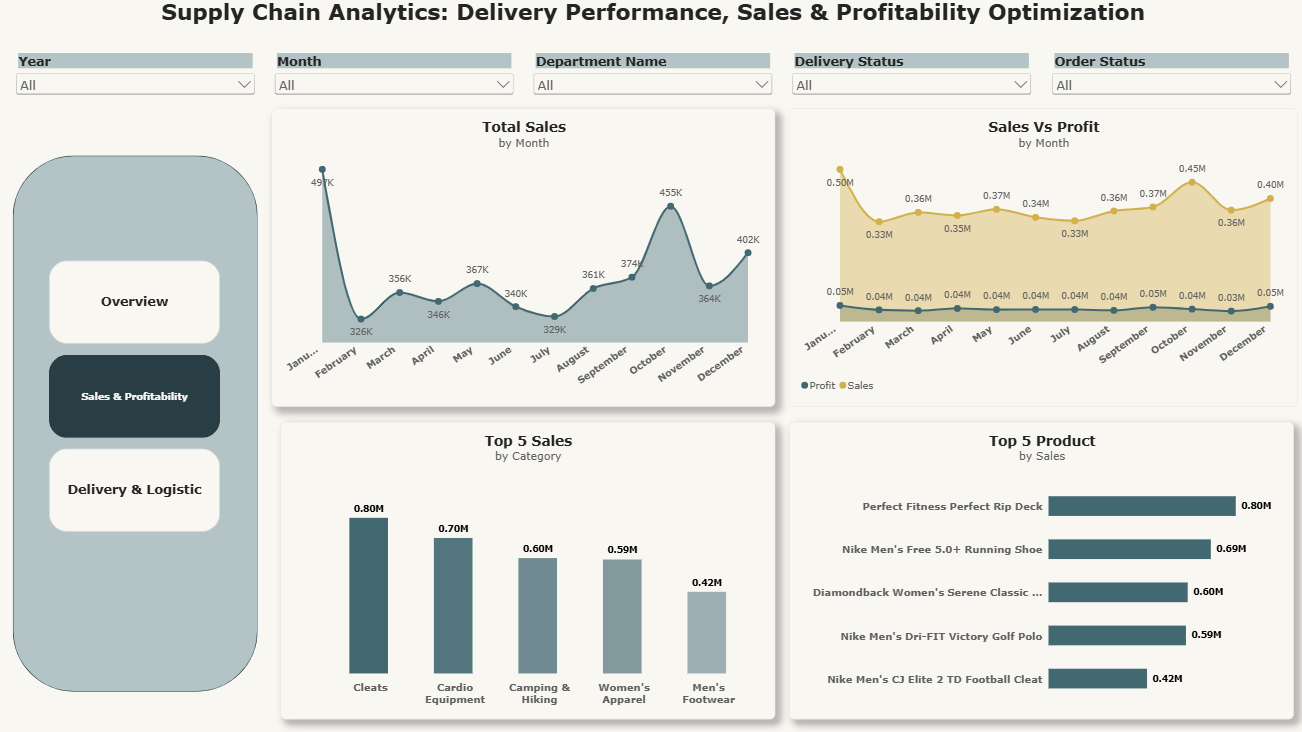

Layout of this report page (visuals, bound fields, positions):
{"tool":"powerbi","page":{"name":"Sales & Profitability","canvas":[1920,1080],"ordinal":1},"visuals":[{"type":"textbox","box":[0,0,1920,67.3],"z":0},{"type":"slicer","fields":{"Values":["CleanDataCoSupplyChainDataset.Order Date.Variation.Date Hierarchy.Year"]},"box":[20,80,360,80],"z":1000},{"type":"slicer","fields":{"Values":["CleanDataCoSupplyChainDataset.Order Date.Variation.Date Hierarchy.Month"]},"box":[400,80,360,80],"z":2000},{"type":"slicer","fields":{"Values":["CleanDataCoSupplyChainDataset.Department Name"]},"box":[780,80.7,360,80],"z":3000},{"type":"slicer","fields":{"Values":["CleanDataCoSupplyChainDataset.Delivery Status"]},"box":[1160,80,360,80],"z":4000},{"type":"slicer","fields":{"Values":["CleanDataCoSupplyChainDataset.Order Status"]},"box":[1540,80,360,80],"z":5000},{"type":"lineChart","fields":{"Category":["CleanDataCoSupplyChainDataset.Order Date.Variation.Date Hierarchy.Month"],"Y":["Sum(CleanDataCoSupplyChainDataset.Sales)"]},"box":[399.9,161.4,739.2,438.4],"z":6000},{"type":"columnChart","fields":{"Category":["CleanDataCoSupplyChainDataset.Category Name"],"Y":["Sum(CleanDataCoSupplyChainDataset.Sales)"]},"box":[412.7,621.8,726.4,436.6],"z":7000},{"type":"clusteredBarChart","fields":{"Category":["CleanDataCoSupplyChainDataset.Product Name"],"Y":["Sum(CleanDataCoSupplyChainDataset.Sales)"]},"box":[1159.2,621.8,741,436.6],"z":8000},{"type":"lineChart","title":"Sales Vs Profit","fields":{"Category":["CleanDataCoSupplyChainDataset.Order Date.Variation.Date Hierarchy.Month"],"Y":["Sum(CleanDataCoSupplyChainDataset.Order Profit Per Order)","Sum(CleanDataCoSupplyChainDataset.Sales)"]},"box":[1159.2,161.4,746.5,438.4],"z":10000},{"type":"shape","box":[20.2,231.1,359.5,786.9],"z":10001},{"type":"pageNavigator","box":[73.4,385.2,251.3,398],"z":10002}]}

Visuals, with their boxes in screenshot pixels (x1, y1, x2, y2), scaled from the page's 1920x1080 canvas onto the 1302x732 screenshot:
textbox: crop(0, 0, 1301, 46)
slicer - CleanDataCoSupplyChainDataset.Order Date.Variation.Date Hierarchy.Year: crop(14, 54, 258, 108)
slicer - CleanDataCoSupplyChainDataset.Order Date.Variation.Date Hierarchy.Month: crop(271, 54, 515, 108)
slicer - CleanDataCoSupplyChainDataset.Department Name: crop(529, 55, 773, 109)
slicer - CleanDataCoSupplyChainDataset.Delivery Status: crop(787, 54, 1031, 108)
slicer - CleanDataCoSupplyChainDataset.Order Status: crop(1044, 54, 1288, 108)
lineChart - CleanDataCoSupplyChainDataset.Order Date.Variation.Date Hierarchy.Month x Sum(CleanDataCoSupplyChainDataset.Sales): crop(271, 109, 772, 407)
columnChart - CleanDataCoSupplyChainDataset.Category Name x Sum(CleanDataCoSupplyChainDataset.Sales): crop(280, 421, 772, 717)
clusteredBarChart - CleanDataCoSupplyChainDataset.Product Name x Sum(CleanDataCoSupplyChainDataset.Sales): crop(786, 421, 1289, 717)
"Sales Vs Profit" lineChart: crop(786, 109, 1292, 407)
shape: crop(14, 157, 257, 690)
pageNavigator: crop(50, 261, 220, 531)
